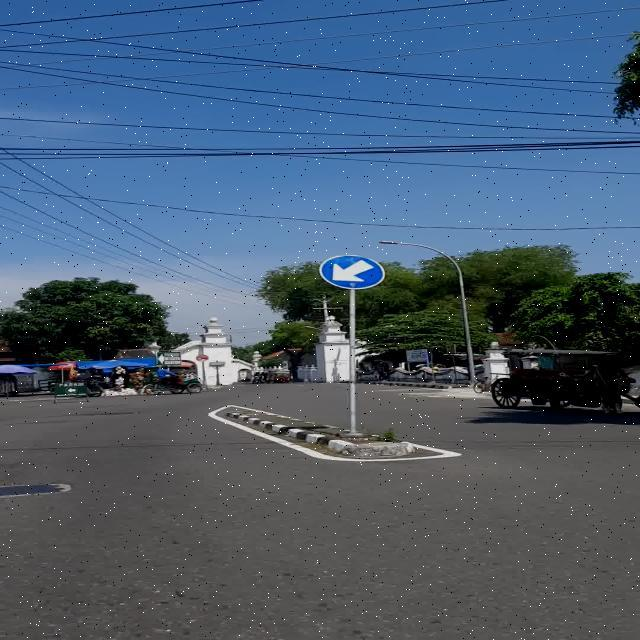Lajur Kiri: (318, 254, 386, 290)
